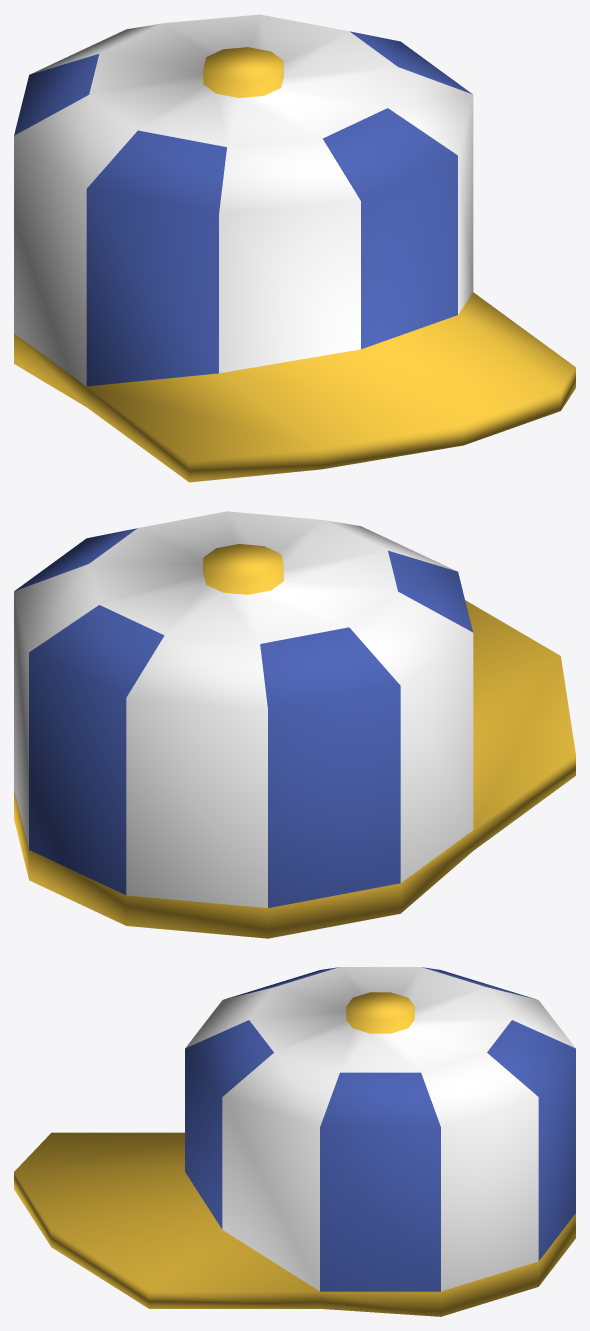
The model's file is Casquette.fbx.
3 renders of one model, top to bottom at view 1: azimuth 30°, elevation 25°; view 2: azimuth 150°, elevation 25°; view 3: azimuth 270°, elevation 25°, orthographic. The views are drawn at different scales.
Parts seen in each view (by area): view 1: Casquette; view 2: Casquette; view 3: Casquette.
Part boxes in pixels (bbox=[...]): Casquette: bbox=[14, 14, 575, 482]; Casquette: bbox=[14, 511, 575, 938]; Casquette: bbox=[14, 967, 575, 1316].
Bounding box in the file's own units: 103 × 155 × 70.71.
